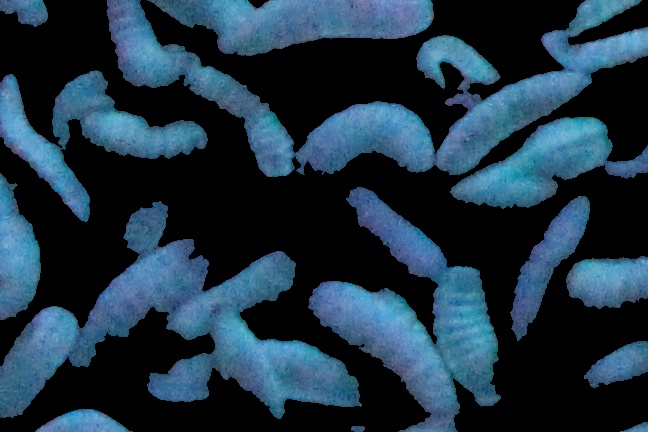larvae: (304, 279, 463, 429), (71, 233, 208, 372), (1, 72, 100, 223), (455, 114, 613, 204), (437, 71, 585, 167), (145, 347, 361, 408), (189, 57, 301, 174), (292, 103, 430, 193), (163, 250, 303, 336), (222, 1, 430, 57), (344, 187, 451, 290), (513, 197, 587, 339), (430, 267, 498, 415), (208, 307, 289, 431), (1, 306, 79, 422), (99, 1, 182, 93), (78, 107, 213, 159), (1, 176, 43, 318), (539, 21, 648, 70), (562, 255, 648, 311), (411, 34, 501, 86), (580, 340, 648, 386)
